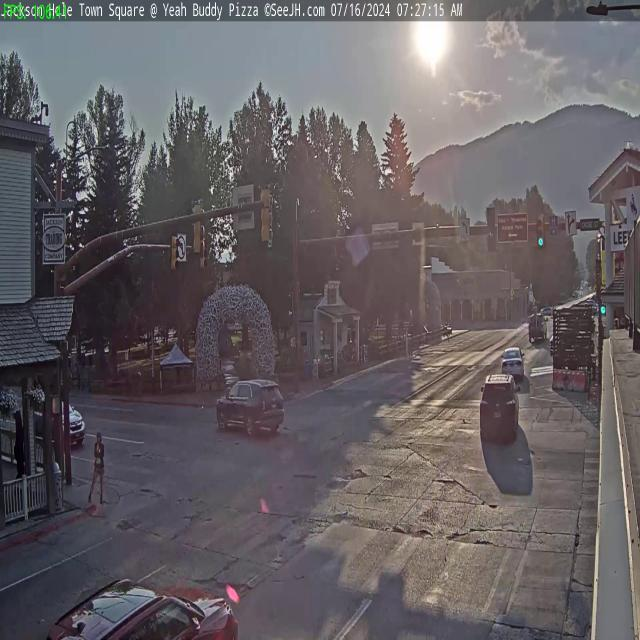person: (92, 430, 105, 507)
sedan: (501, 346, 524, 374)
suv: (38, 572, 242, 640), (213, 375, 284, 440), (33, 396, 86, 454), (480, 372, 518, 445)
traffic light: (190, 198, 204, 254), (260, 184, 272, 246), (486, 207, 497, 252), (536, 214, 546, 248)
